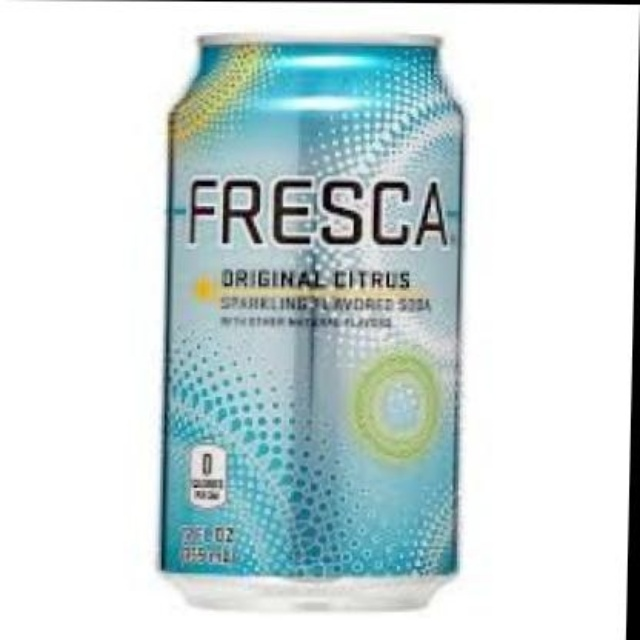trash: (162, 42, 462, 609)
